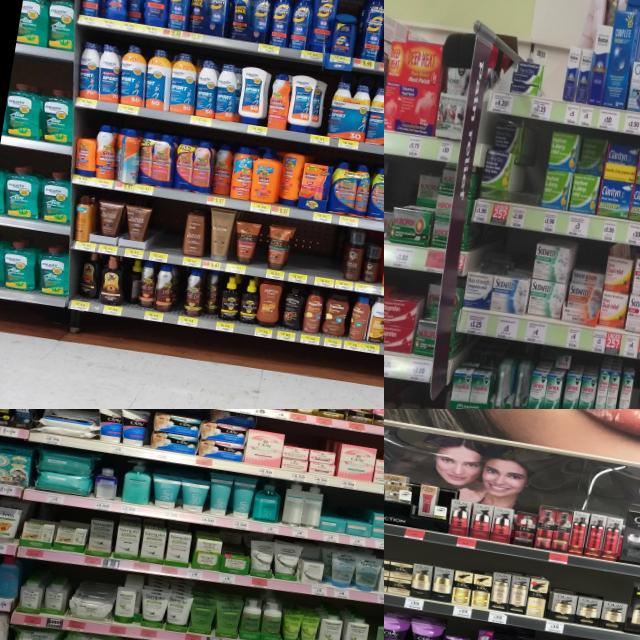100- O.O.S: (524, 125, 554, 231), (148, 201, 187, 265), (538, 45, 570, 121), (314, 226, 345, 289), (288, 223, 319, 284)
